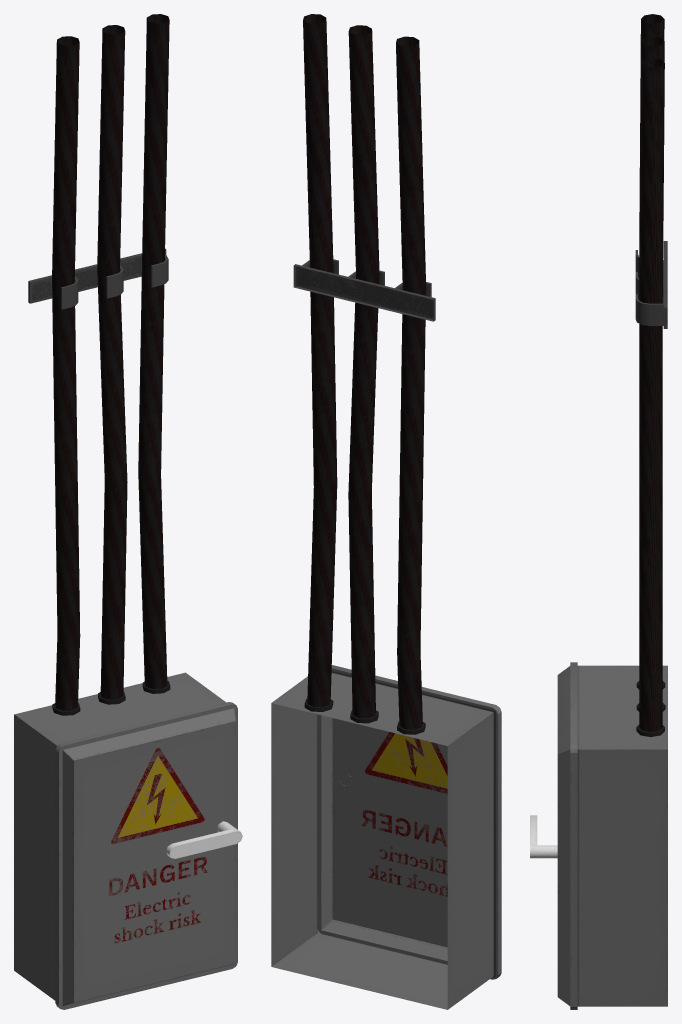
The model's file is ElectricBoxqqA.fbx.
The picture shows the model from 3 angles, left to right: view 1: azimuth 30°, elevation 25°; view 2: azimuth 150°, elevation 25°; view 3: azimuth 270°, elevation 25°; orthographic projection. The views are drawn at different scales.
Parts seen in each view (by area): view 1: ElectricBoxqqA; view 2: ElectricBoxqqA; view 3: ElectricBoxqqA.
Part boxes in pixels (bbox=[...]): ElectricBoxqqA: bbox=[14, 14, 242, 1009]; ElectricBoxqqA: bbox=[271, 14, 501, 1009]; ElectricBoxqqA: bbox=[530, 14, 667, 1009].
Size of the model in its own units: 26.33 by 130 by 17.49.
